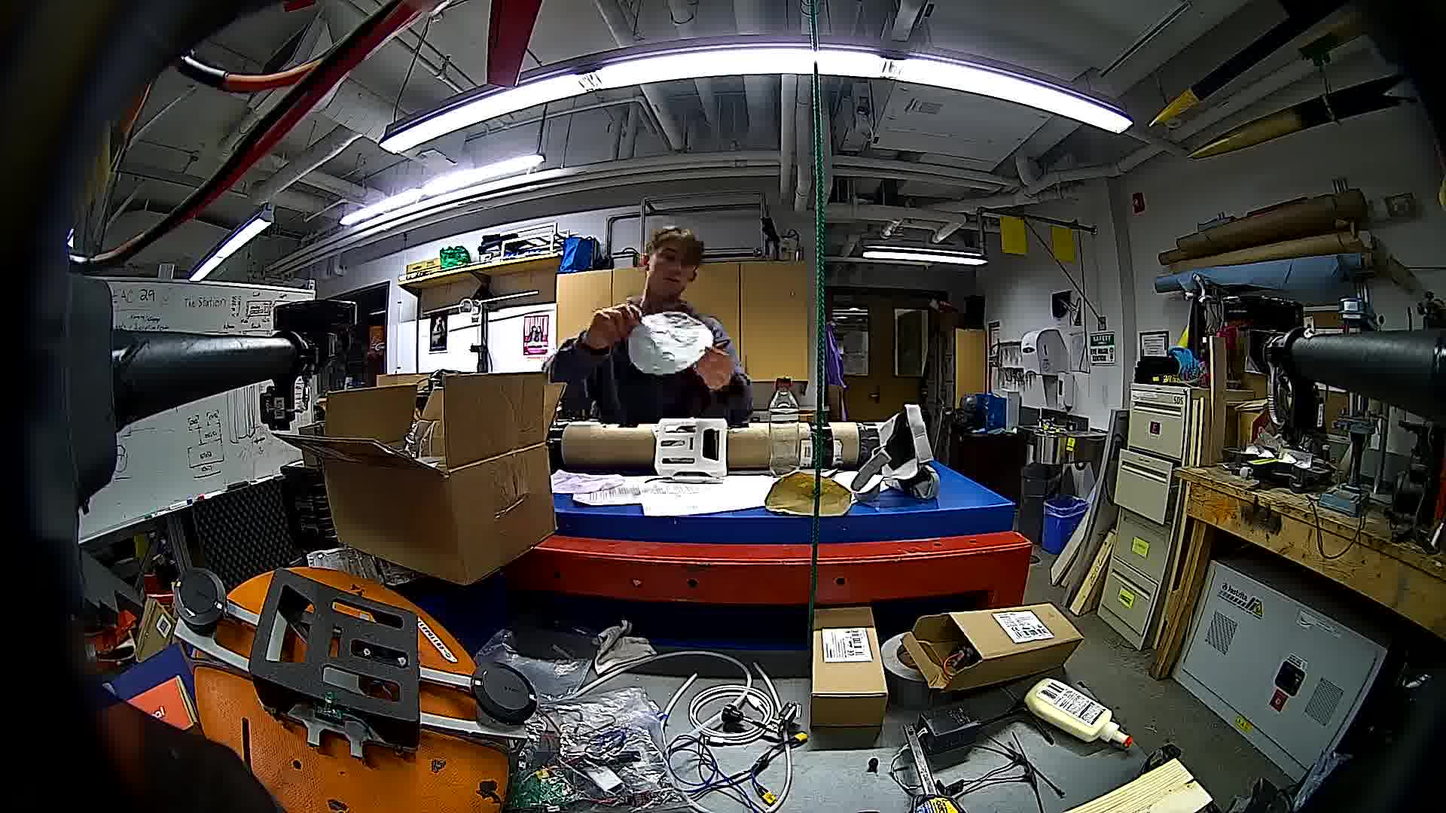Target: (628, 313, 714, 375)
